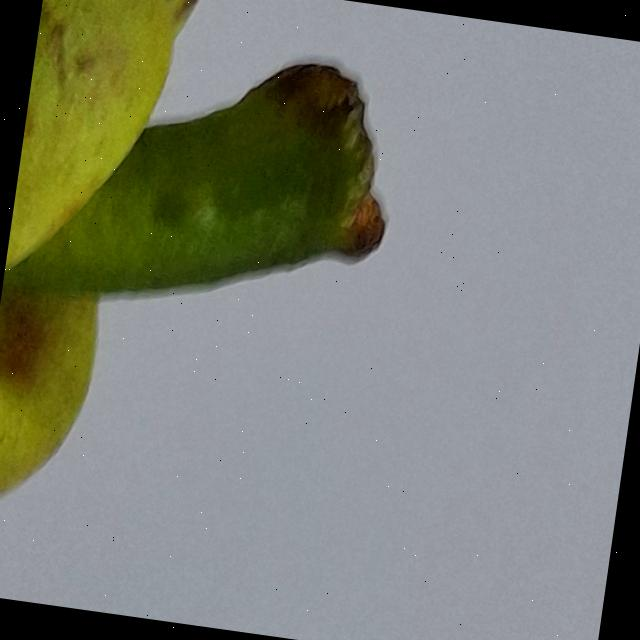mangosteen: (0, 0, 414, 640)
